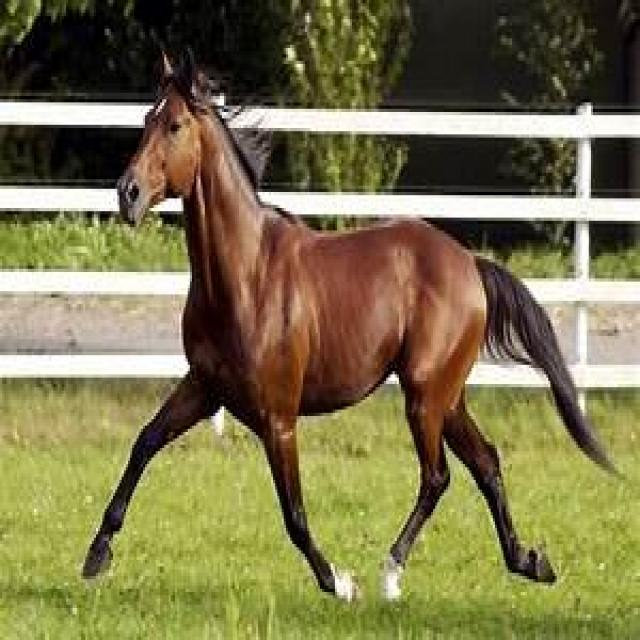horse: (84, 62, 614, 600)
